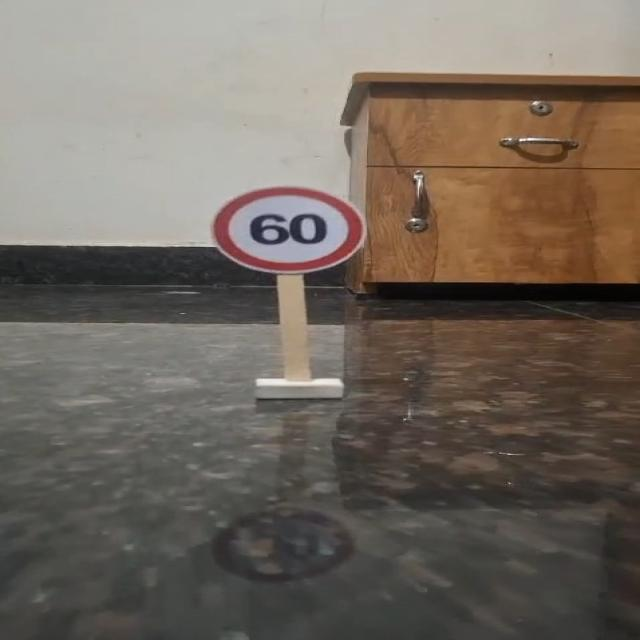Speed60: (203, 181, 376, 280)
